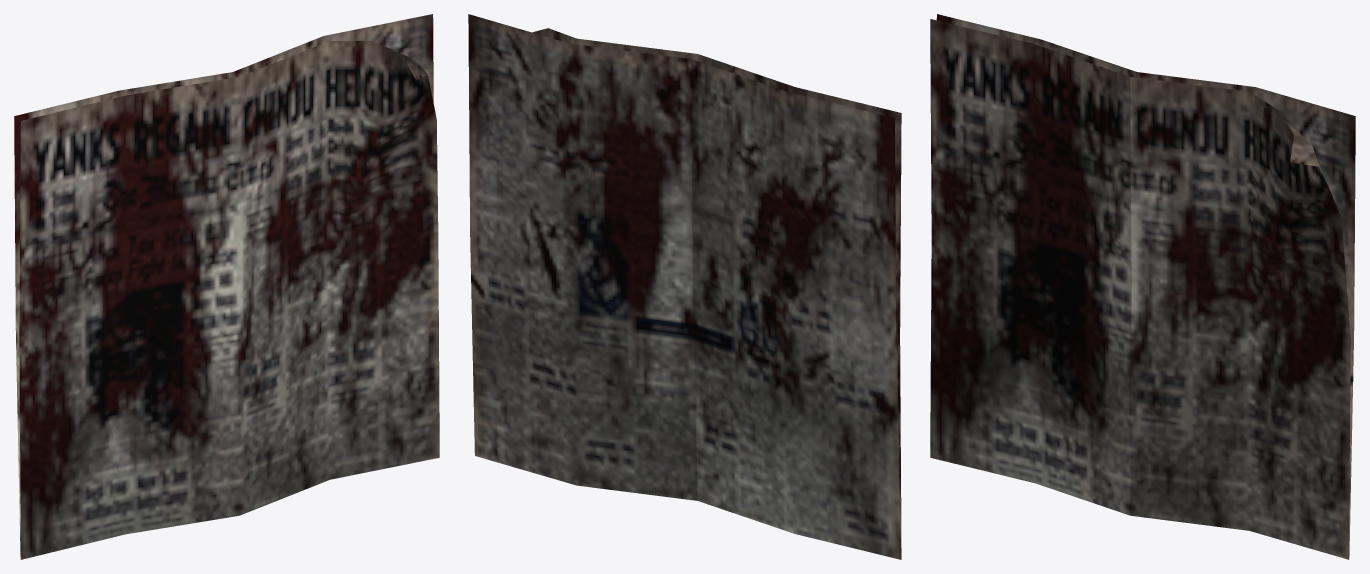
Rendered from Newspaper_02.fbx.
3 renders of one model, left to right at view 1: azimuth 30°, elevation 25°; view 2: azimuth 150°, elevation 25°; view 3: azimuth 330°, elevation 25°, orthographic.
Visible parts, largest first — view 1: Newspaper02; view 2: Newspaper02; view 3: Newspaper02.
Part boxes in pixels (bbox=[...]): Newspaper02: bbox=[14, 14, 439, 559]; Newspaper02: bbox=[468, 14, 901, 559]; Newspaper02: bbox=[930, 14, 1355, 559].
Size of the model in its own units: 11.98 by 12 by 1.45.
1 material, 1 textured.
